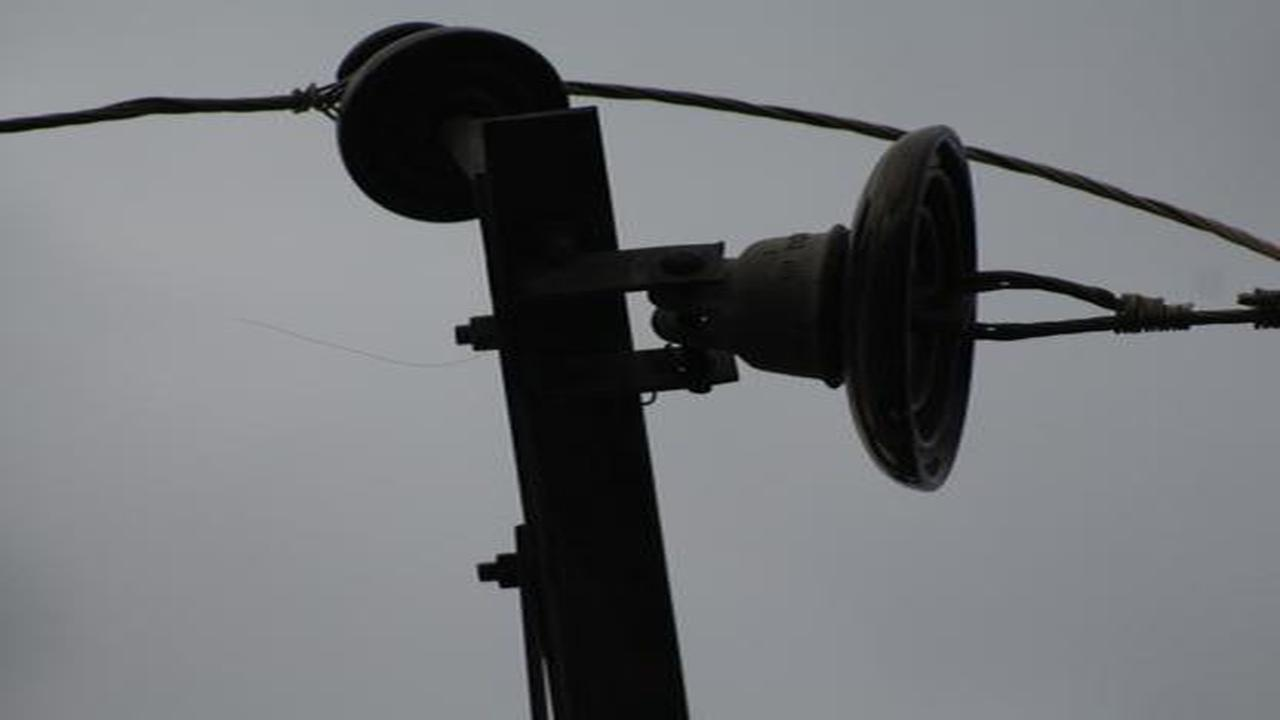insulator_disc: (728, 125, 981, 500)
insulator_pin: (329, 18, 571, 216)
